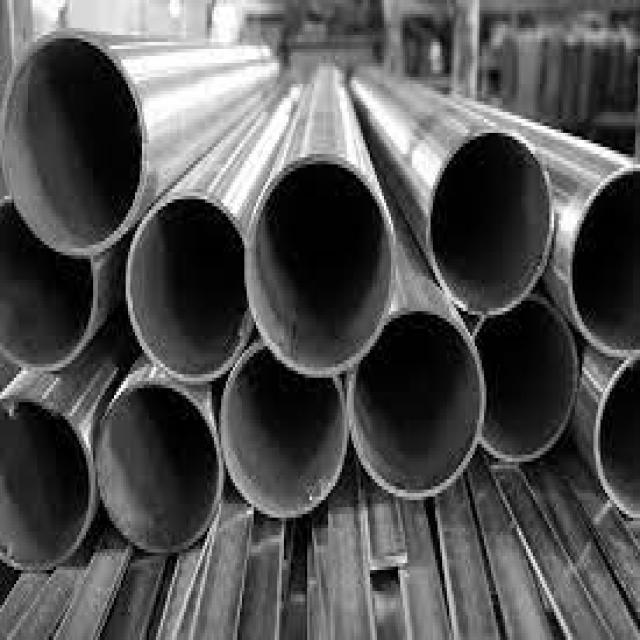pipe: (247, 164, 392, 376), (3, 38, 141, 254), (353, 313, 481, 498), (126, 200, 252, 382), (432, 133, 551, 314), (221, 350, 348, 518), (96, 390, 218, 554), (0, 196, 100, 371), (0, 396, 95, 573), (478, 302, 579, 462), (566, 159, 640, 357), (591, 354, 640, 525)
